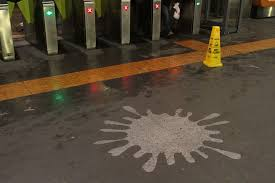Wet-floor: (103, 96, 260, 183), (4, 62, 218, 90), (60, 45, 195, 66)
